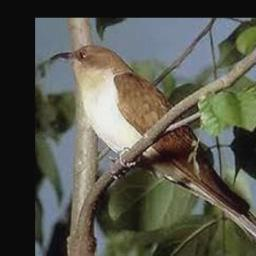Cuckoo: (49, 45, 256, 239)
